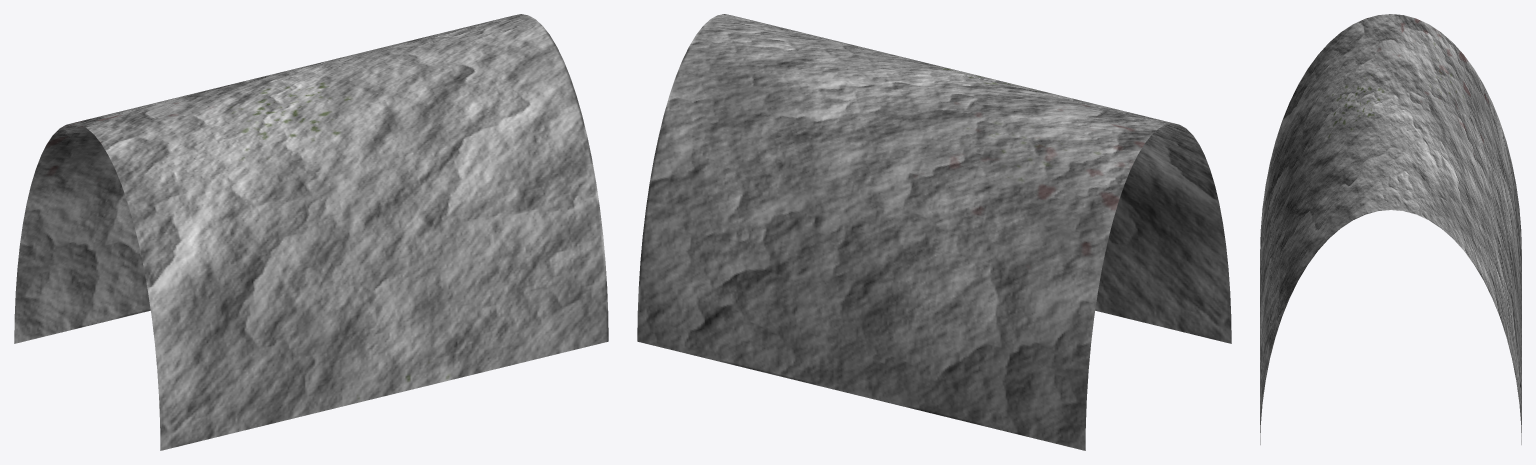
Rendered from Concrete_Overhead.fbx.
3 views of the same model, side by side, from view 1: azimuth 30°, elevation 25°; view 2: azimuth 150°, elevation 25°; view 3: azimuth 270°, elevation 25° (orthographic). The views are drawn at different scales.
Visible parts, largest first — view 1: Cylinder; view 2: Cylinder; view 3: Cylinder.
Boxes of the visible parts, x1,y1,x2,y2 form: Cylinder: [14, 14, 608, 450]; Cylinder: [637, 14, 1231, 450]; Cylinder: [1260, 14, 1521, 444].
Size of the model in its own units: 1390 by 797 by 785.
